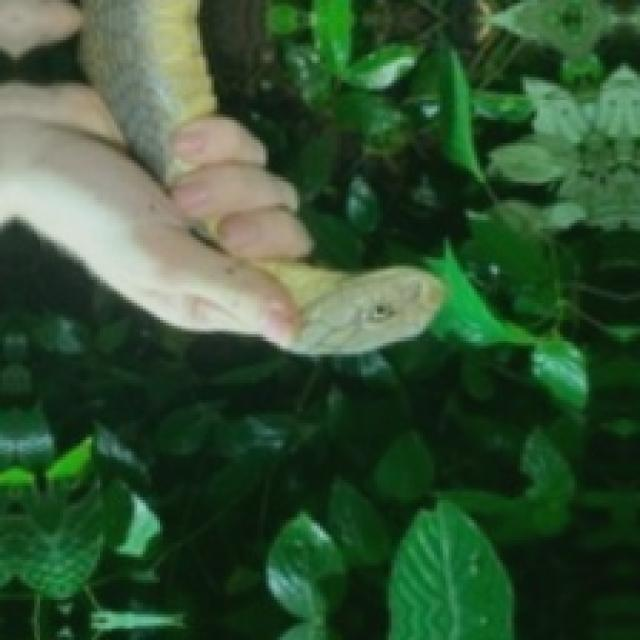king cobra: (0, 0, 443, 351), (80, 0, 443, 351)
